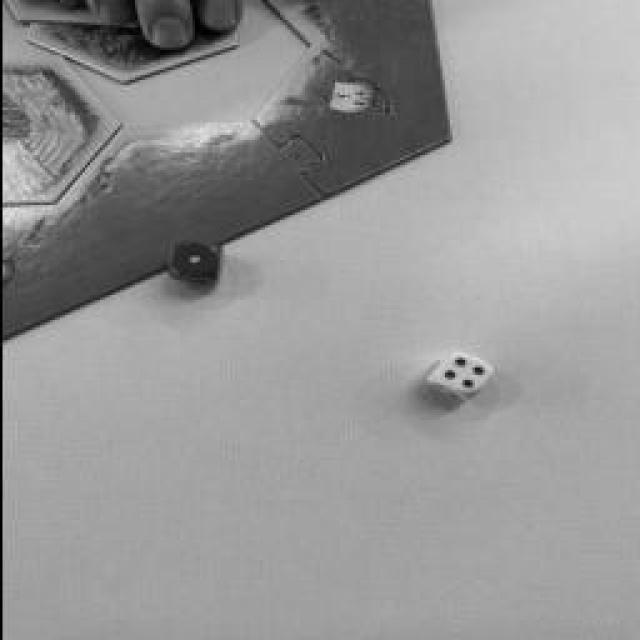dice_1: (170, 241, 220, 279)
dice_4: (435, 355, 490, 395)
